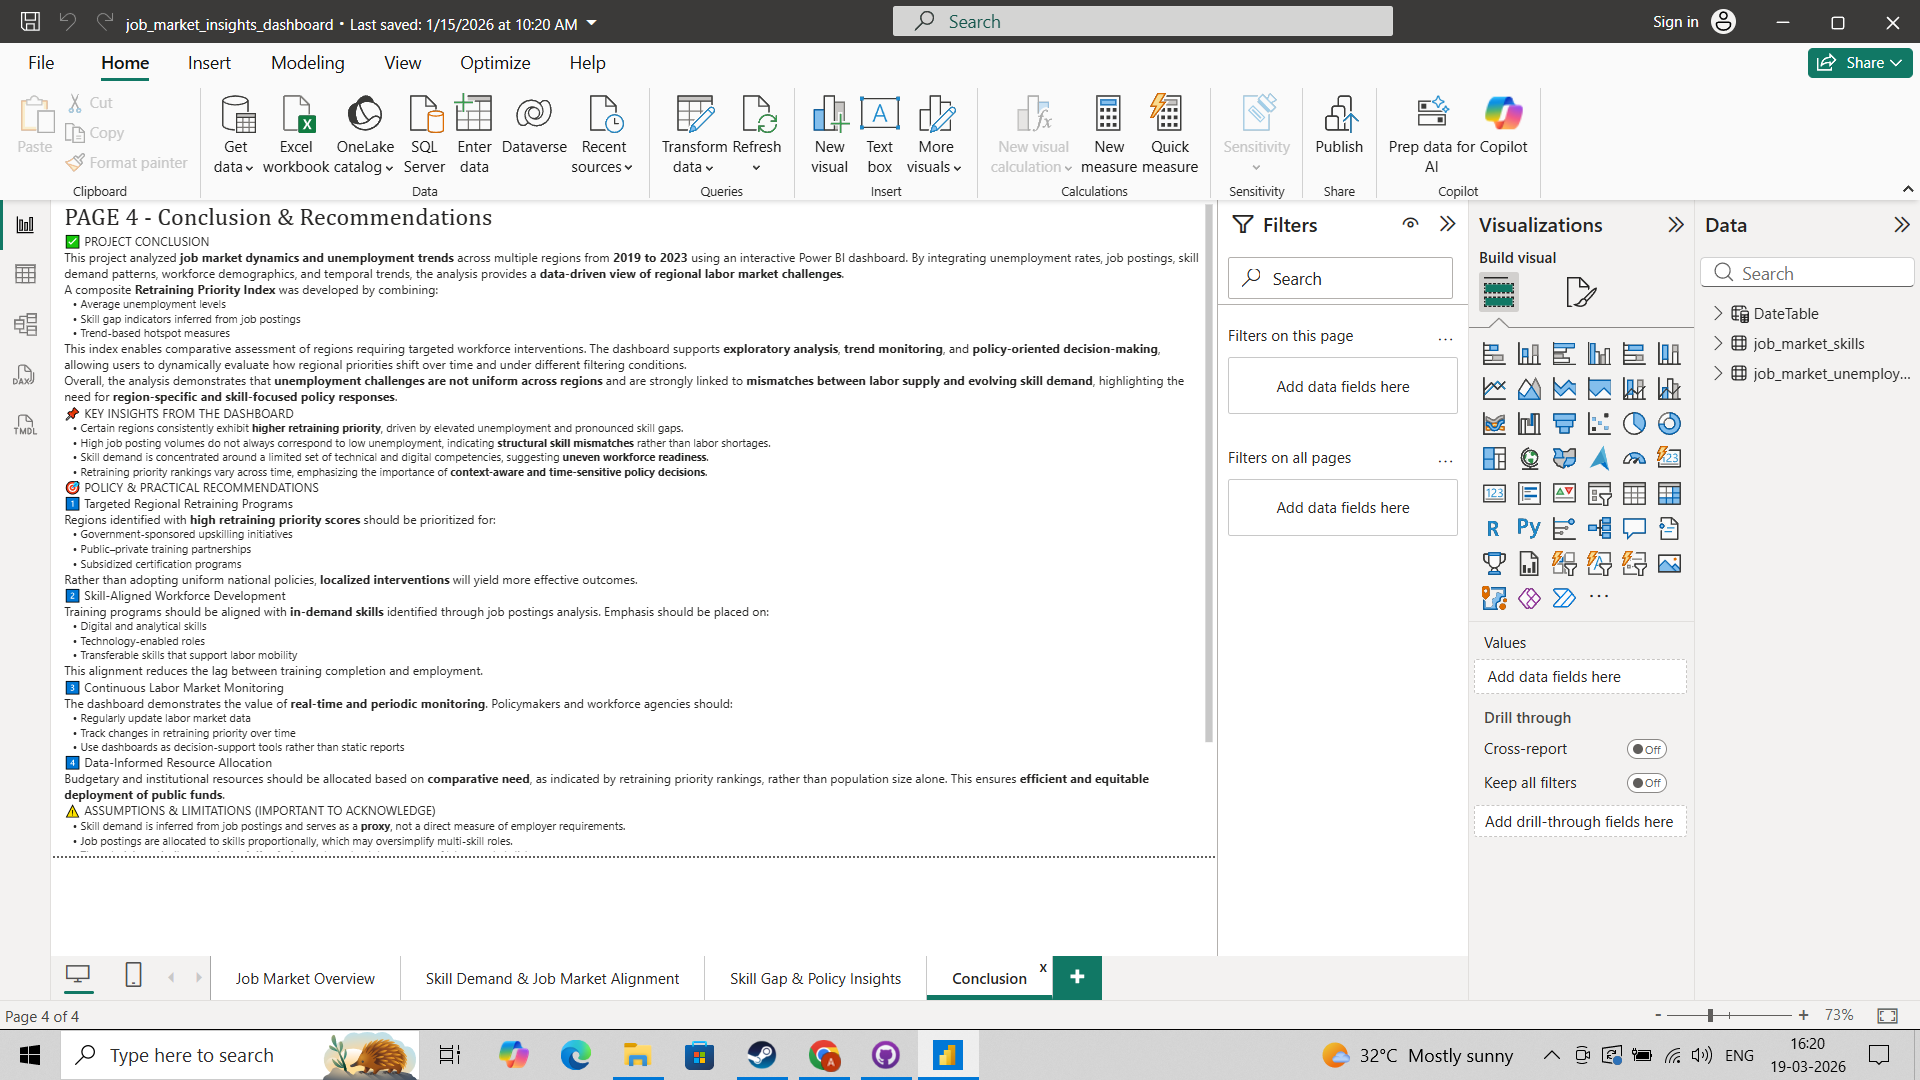

The page's visual inventory and layout, read from the dashboard file:
{"tool":"powerbi","page":{"name":"Conclusion","canvas":[1280,720],"ordinal":3},"visuals":[{"type":"textbox","box":[9.6,0,1270.7,720.4],"z":0}]}

Visuals, with their boxes on the page's 1280x720 design canvas (x1, y1, x2, y2). These are canvas units, not pixel positions in the 1920x1080 screenshot, which may show the page scaled, cropped or inside an application window:
textbox: (10, 0, 1280, 720)
